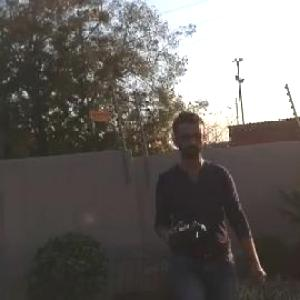follow: (149, 107, 273, 299)
